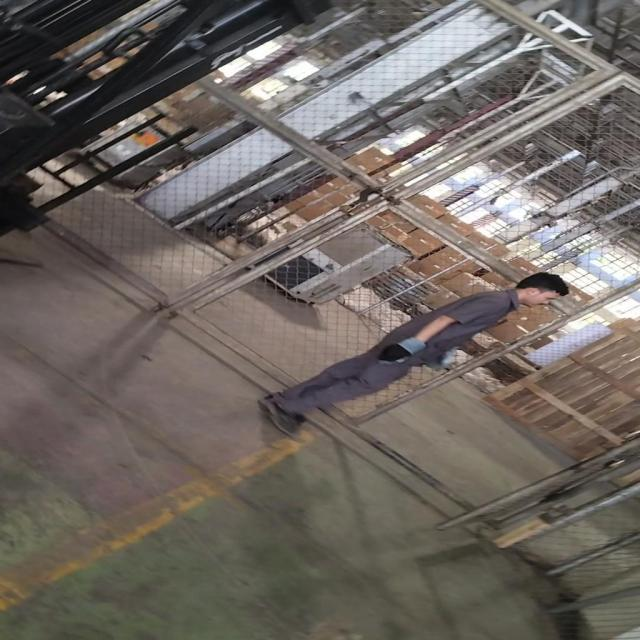Gloves-Detection: (378, 338, 423, 362)
